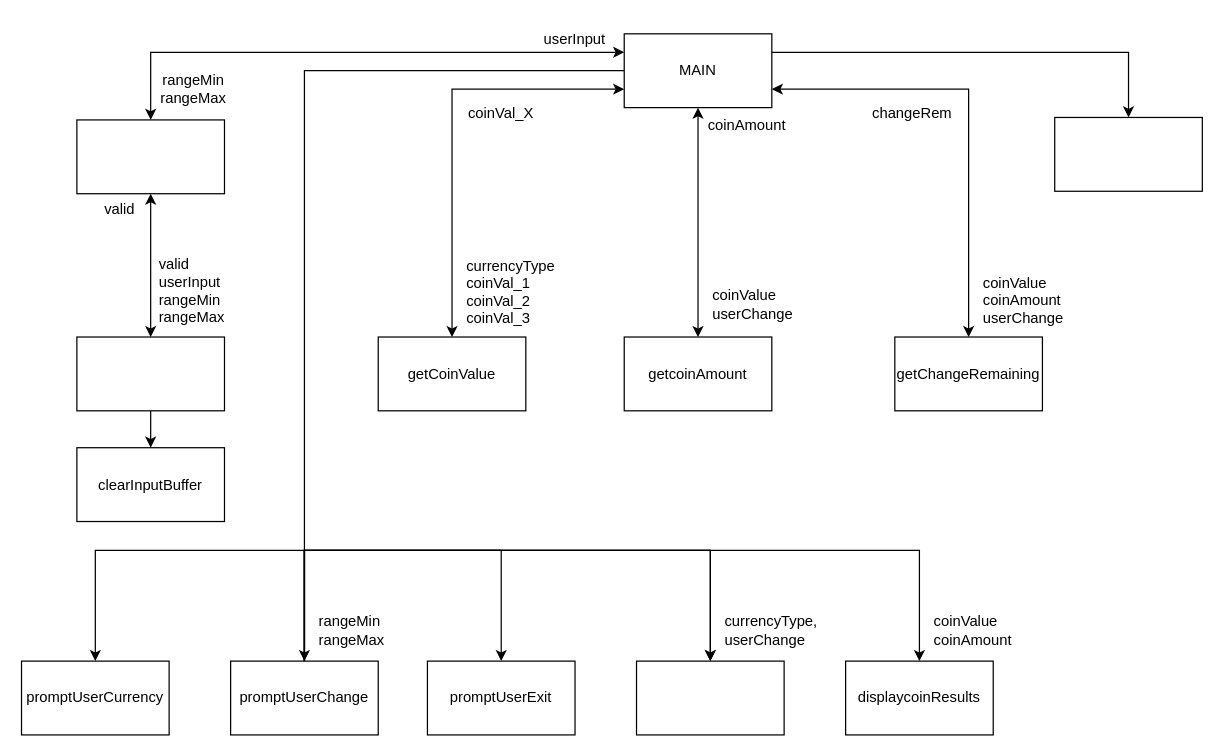
Image size: 1224x756. Some labels were removed from this diagram. The centre of each missing label's shape, as x and y in pixels:
displayUserValues: pixel 709 697
getUserInput: pixel 150 156
pauseExitProgram: pixel 1127 153
validateUserInput: pixel 150 373
